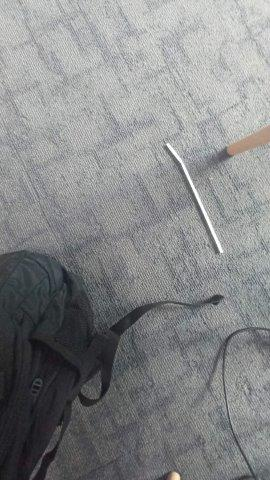sedotan: (166, 143, 223, 254)
